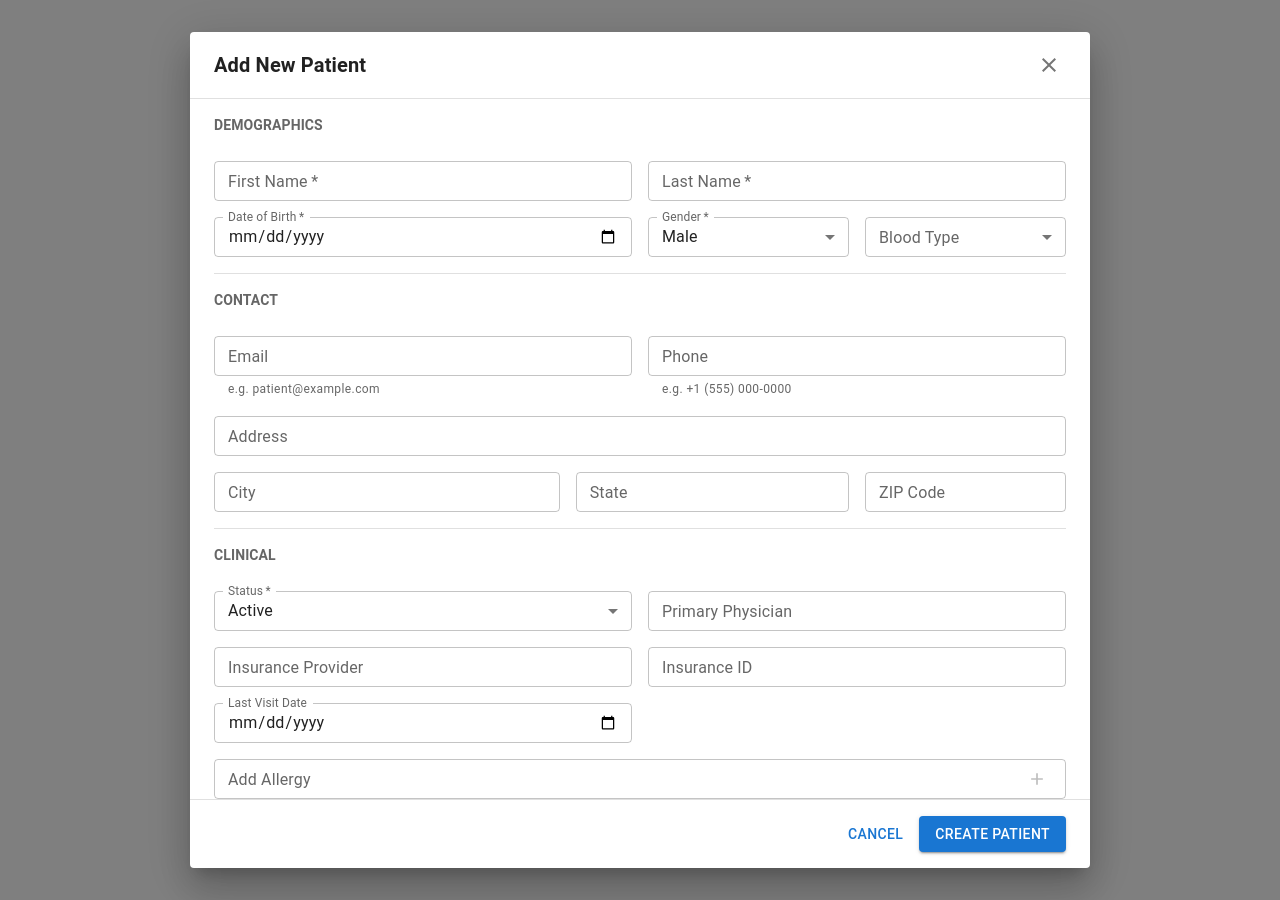
PatientFormDialog › shows "Last name is required" when submitting with empty last name
Type "Jane" into the field labelled "First Name *" at (423, 181), box 214,161 -> 632,201
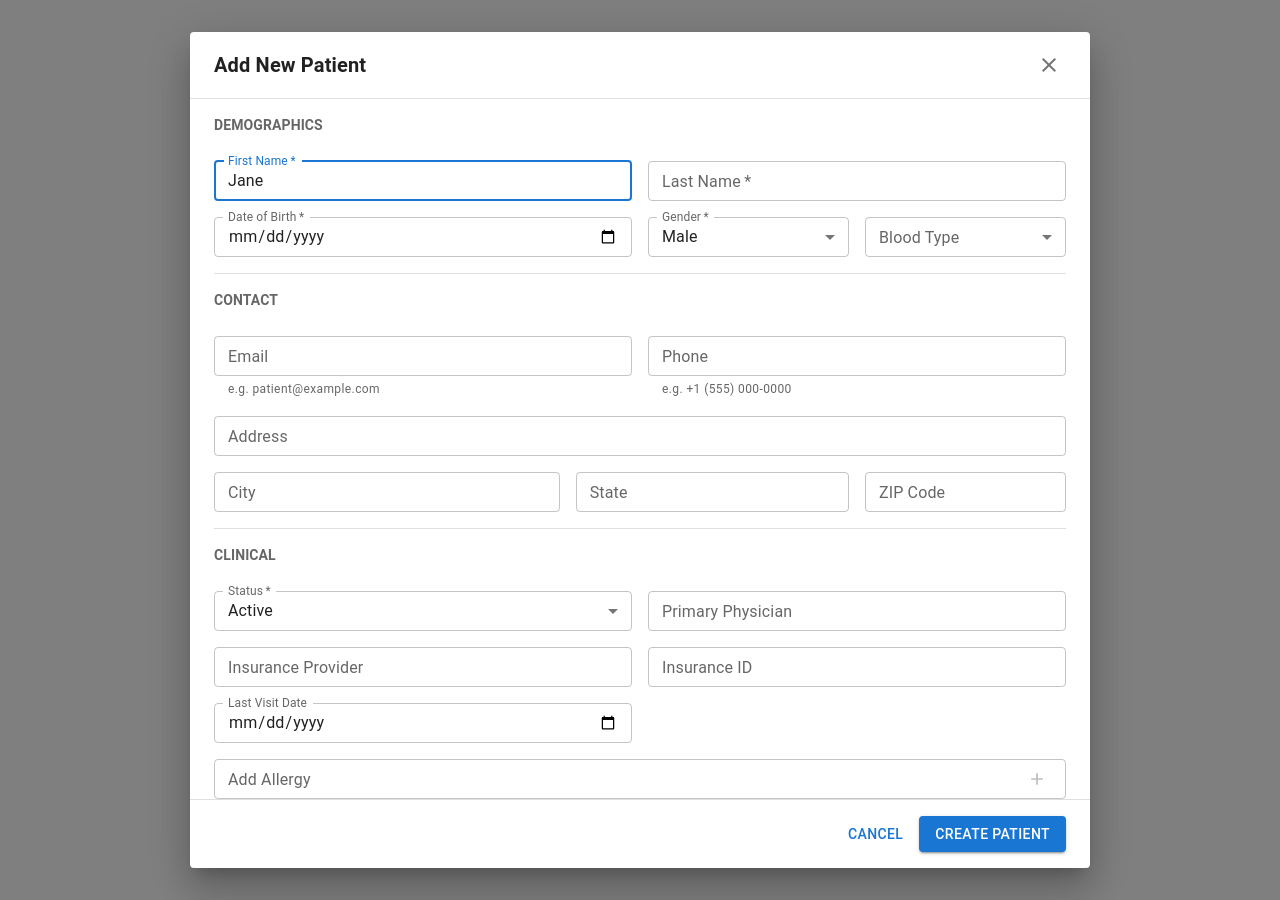
Type "1990-05-20" into the date field labelled "Date of Birth *" at (423, 237), box 214,217 -> 632,257
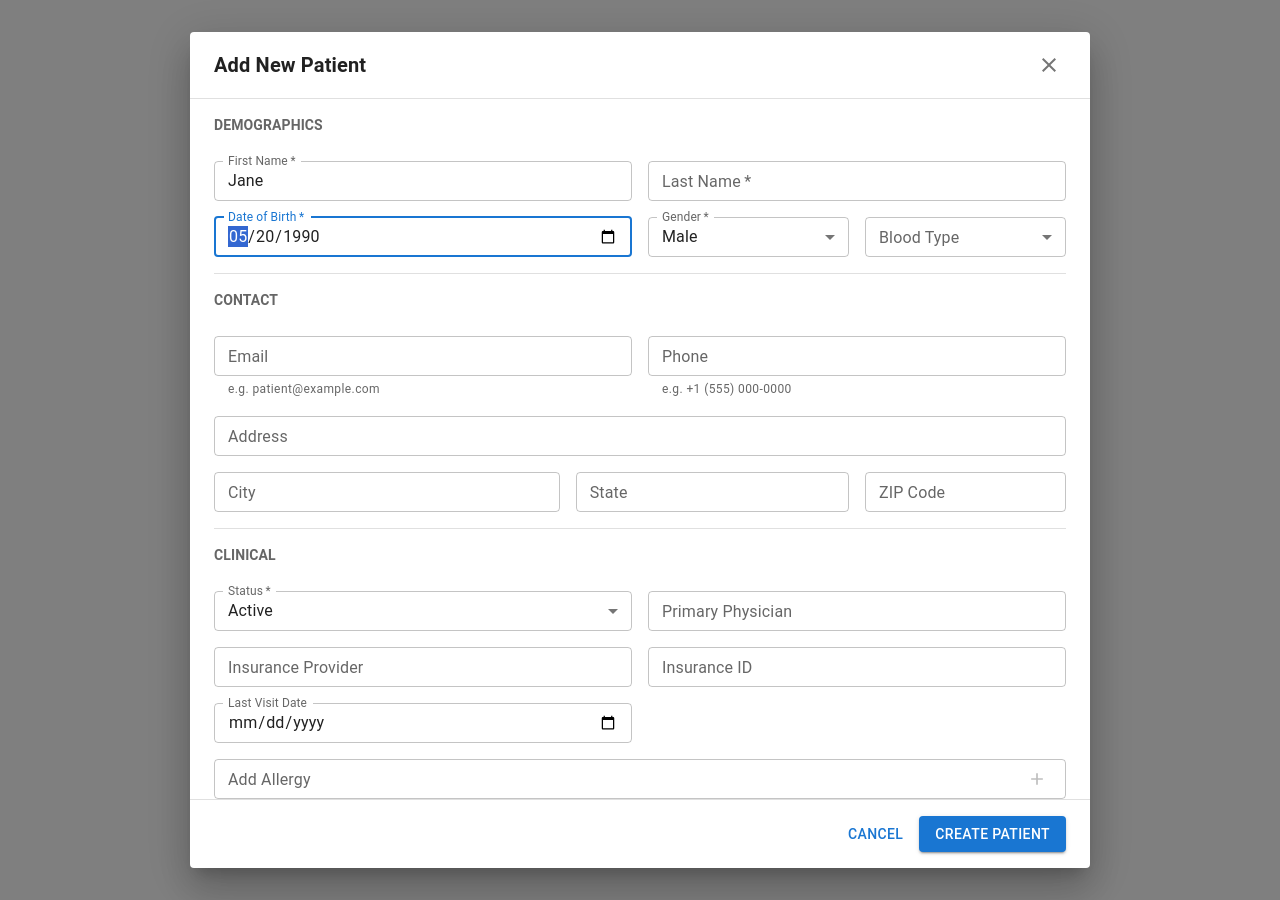
Click the button "Create Patient" at (993, 834), box 919,816 -> 1066,852
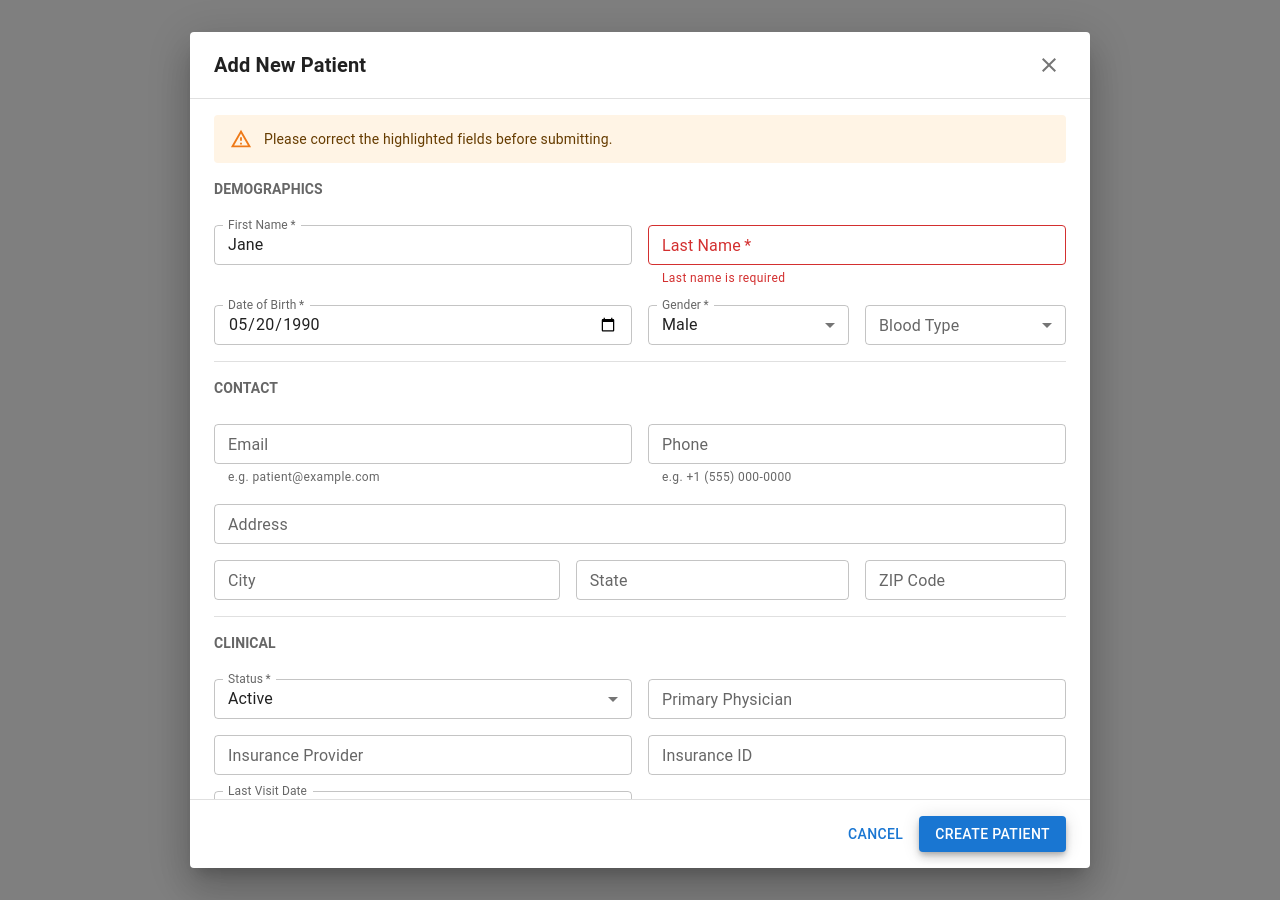
Now the text "Last name is required" is shown, box 662,271 -> 785,285
